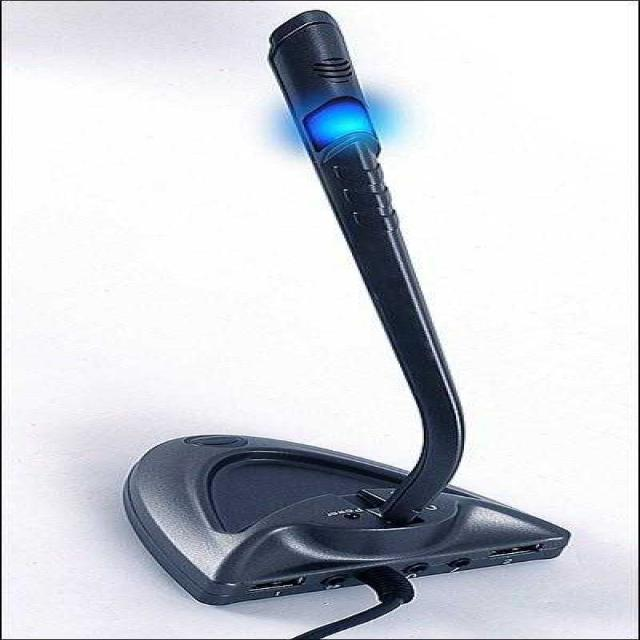microphone: (210, 0, 524, 470)
